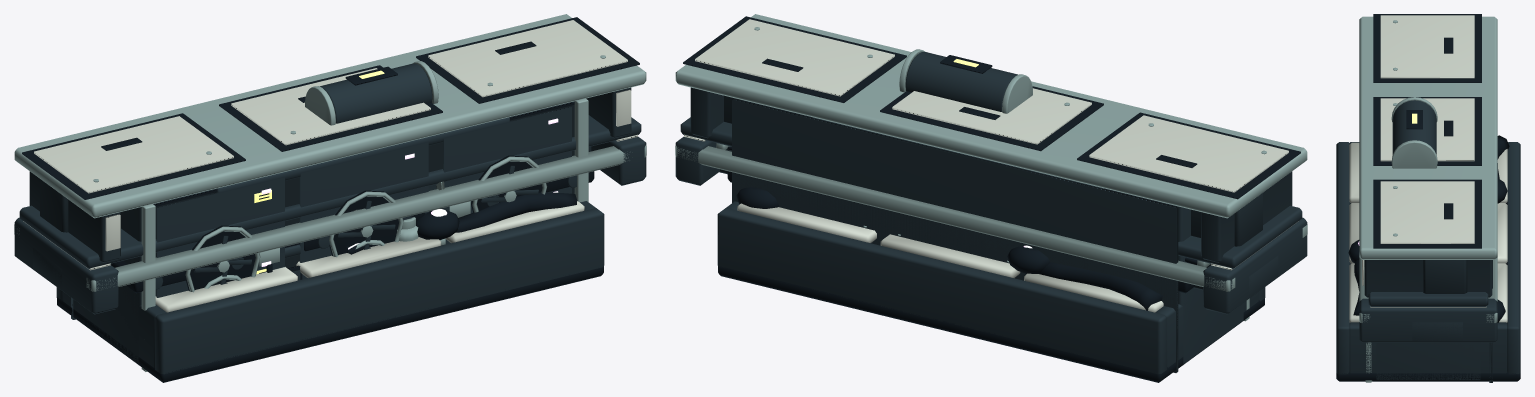
The model's file is kit.glb.
3 views of the same model, side by side, from view 1: azimuth 30°, elevation 25°; view 2: azimuth 150°, elevation 25°; view 3: azimuth 270°, elevation 25° (orthographic). The views are drawn at different scales.
Parts seen in each view (by area): view 1: airway-exchanger--e9-body, cargo-hoist-header--e9-ceramic, cargo-hoist-header--e9-trim, swarm-plenum-tall--e9-body, cargo-hoist-header--e9-body, workshop-tool-bridge--e9-trim, airway-exchanger--e9-dark, cargo-hoist-header--e9-dark, workshop-tool-bridge--e9-body, airway-exchanger--e9-ceramic, swarm-plenum-tall--e9-trim, swarm-plenum-tall--e9-dark (+5 smaller); view 2: swarm-plenum-tall--e9-body, airway-exchanger--e9-body, cargo-hoist-header--e9-ceramic, cargo-hoist-header--e9-trim, cargo-hoist-header--e9-body, workshop-tool-bridge--e9-trim, swarm-plenum-low--e9-body, airway-exchanger--e9-dark, cargo-hoist-header--e9-dark, workshop-tool-bridge--e9-body, airway-exchanger--e9-ceramic; view 3: cargo-hoist-header--e9-ceramic, cargo-hoist-header--e9-trim, airway-exchanger--e9-body, cargo-hoist-header--e9-body, cargo-hoist-header--e9-dark, workshop-tool-bridge--e9-body, swarm-plenum-low--e9-body, airway-exchanger--e9-ceramic, airway-exchanger--e9-dark, swarm-plenum-tall--e9-body, workshop-tool-bridge--e9-trim.
Part boxes in pixels (x1,y1,x2,y2): airway-exchanger--e9-body: (56,201,604,374); cargo-hoist-header--e9-ceramic: (34,20,631,251); cargo-hoist-header--e9-trim: (14,14,646,241); swarm-plenum-tall--e9-body: (72,105,574,363); cargo-hoist-header--e9-body: (19,63,641,268); workshop-tool-bridge--e9-trim: (14,145,646,291); airway-exchanger--e9-dark: (57,192,603,382); cargo-hoist-header--e9-dark: (22,17,639,199); workshop-tool-bridge--e9-body: (14,136,646,314); airway-exchanger--e9-ceramic: (155,201,584,312); swarm-plenum-tall--e9-trim: (141,98,588,308); swarm-plenum-tall--e9-dark: (153,101,574,291); swarm-plenum-tall--e9-body: (732,99,1243,372); airway-exchanger--e9-body: (717,201,1265,374); cargo-hoist-header--e9-ceramic: (695,19,1288,192); cargo-hoist-header--e9-trim: (675,14,1307,218); cargo-hoist-header--e9-body: (680,52,1302,268); workshop-tool-bridge--e9-trim: (675,143,1307,291); swarm-plenum-low--e9-body: (732,173,1193,372); airway-exchanger--e9-dark: (718,187,1264,382); cargo-hoist-header--e9-dark: (683,16,1300,199); workshop-tool-bridge--e9-body: (675,136,1307,314); airway-exchanger--e9-ceramic: (737,203,1163,312); cargo-hoist-header--e9-ceramic: (1362,15,1474,285); cargo-hoist-header--e9-trim: (1359,16,1497,259); airway-exchanger--e9-body: (1336,142,1520,374); cargo-hoist-header--e9-body: (1364,100,1492,306); cargo-hoist-header--e9-dark: (1373,14,1481,248); workshop-tool-bridge--e9-body: (1359,298,1497,342); swarm-plenum-low--e9-body: (1376,342,1492,382); airway-exchanger--e9-ceramic: (1349,142,1507,322); airway-exchanger--e9-dark: (1336,135,1520,381); swarm-plenum-tall--e9-body: (1376,260,1492,382); workshop-tool-bridge--e9-trim: (1359,257,1497,322).
Bounding box in the file's own units: 6 × 2.22 × 2.
